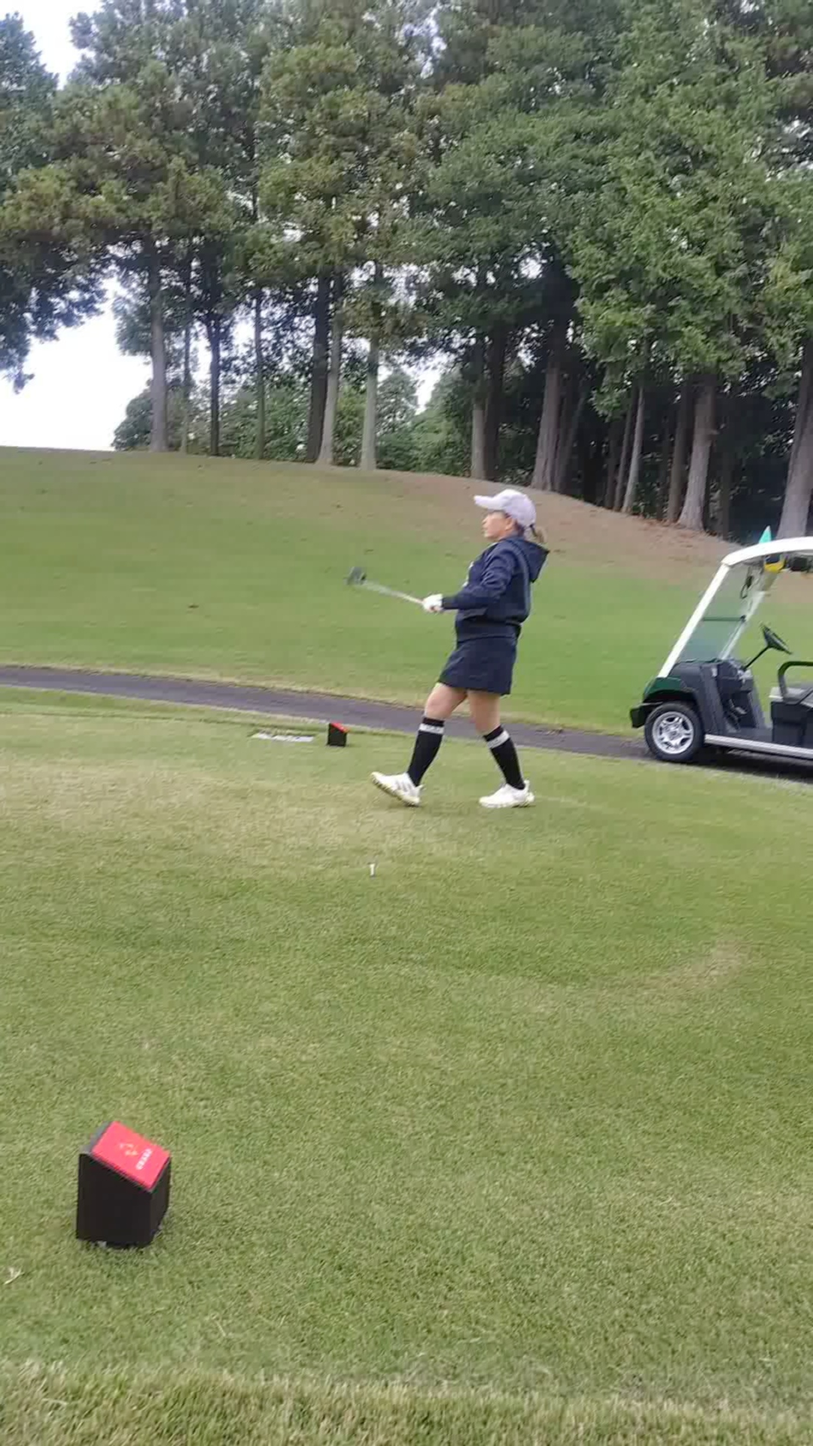clubhead: (308, 515, 439, 646)
